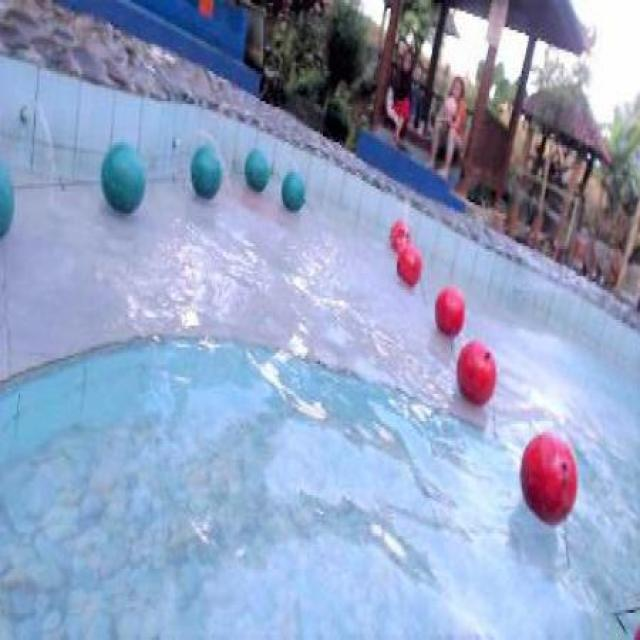buoy: (518, 430, 577, 527), (100, 141, 146, 215), (456, 338, 496, 406), (189, 146, 221, 198), (434, 285, 464, 338), (242, 147, 269, 191), (396, 244, 422, 286), (281, 170, 304, 213), (388, 218, 408, 253)
